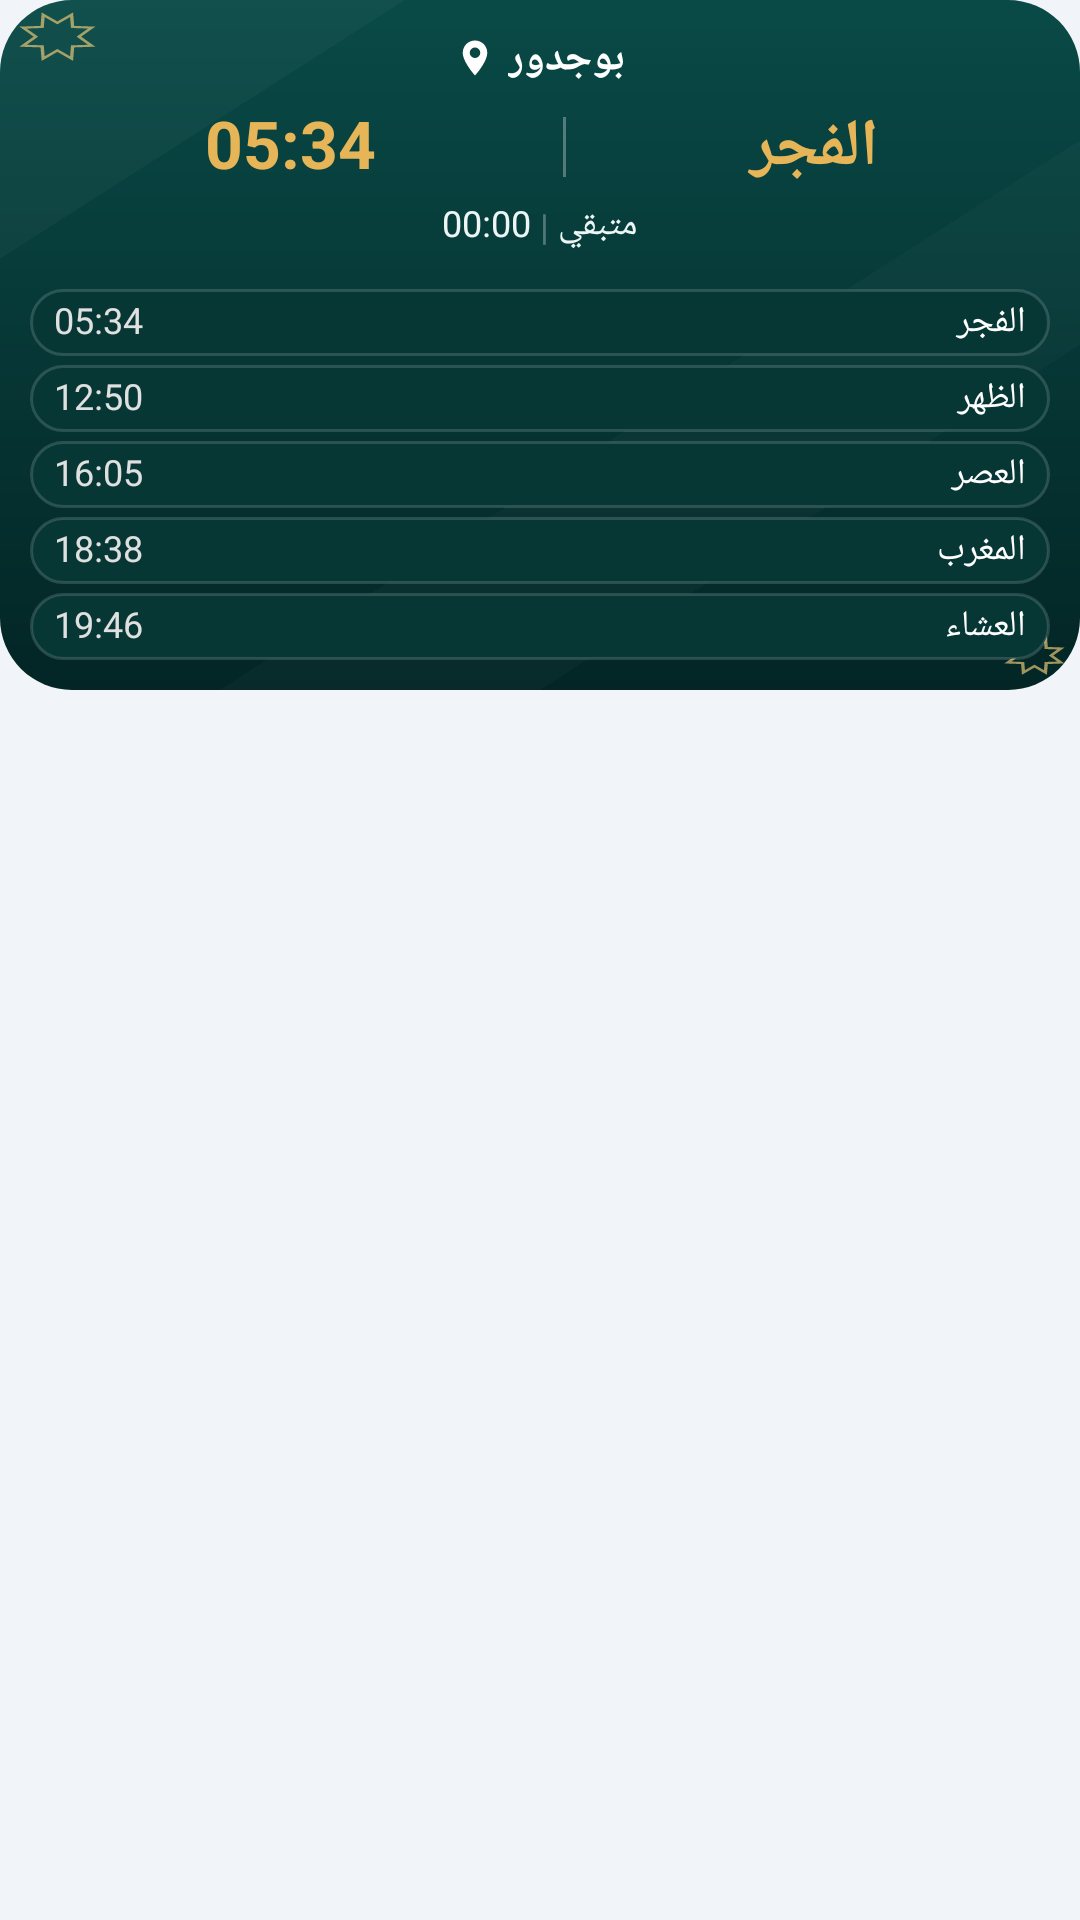

Icon click points for this 1080x1920 phone screenshot, format (x=x, y=y):
المدينة: (x=475, y=57)
